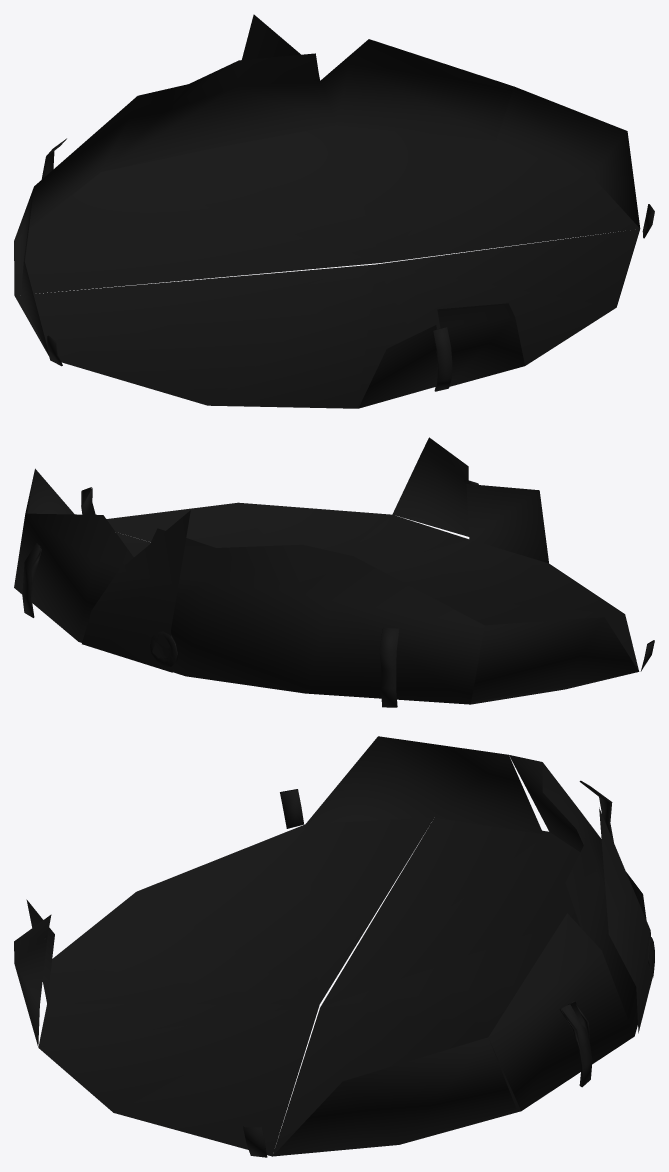
File: hip.glb
3 renders of one model, top to bottom at view 1: azimuth 30°, elevation 25°; view 2: azimuth 150°, elevation 25°; view 3: azimuth 270°, elevation 25°, orthographic. The views are drawn at different scales.
Parts seen in each view (by area): view 1: shorts-black_HIP; view 2: shorts-black_HIP; view 3: shorts-black_HIP.
Part boxes in pixels (left/top/right/bottom): shorts-black_HIP: left=14, top=14, right=654, bottom=408; shorts-black_HIP: left=14, top=437, right=654, bottom=707; shorts-black_HIP: left=14, top=736, right=654, bottom=1157.
Bounding box in the file's own units: 0.4262 × 0.1312 × 0.334.
Materials: 1 (1 with a texture image).
